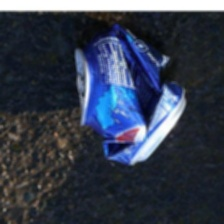can: (62, 20, 189, 169)
